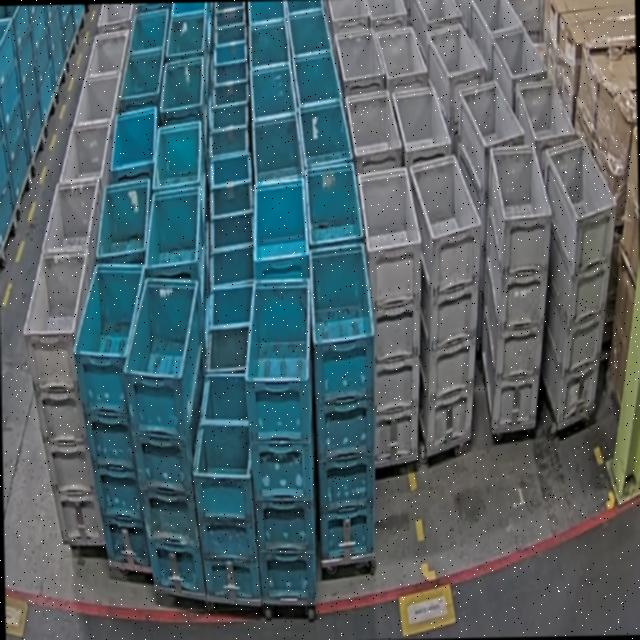4G: (21, 247, 106, 547), (538, 136, 620, 422), (408, 154, 484, 453), (478, 144, 555, 428), (357, 167, 425, 462)
B4: (121, 275, 210, 595), (71, 262, 151, 568), (242, 279, 316, 601), (308, 241, 378, 560)
B8: (190, 372, 262, 600)
